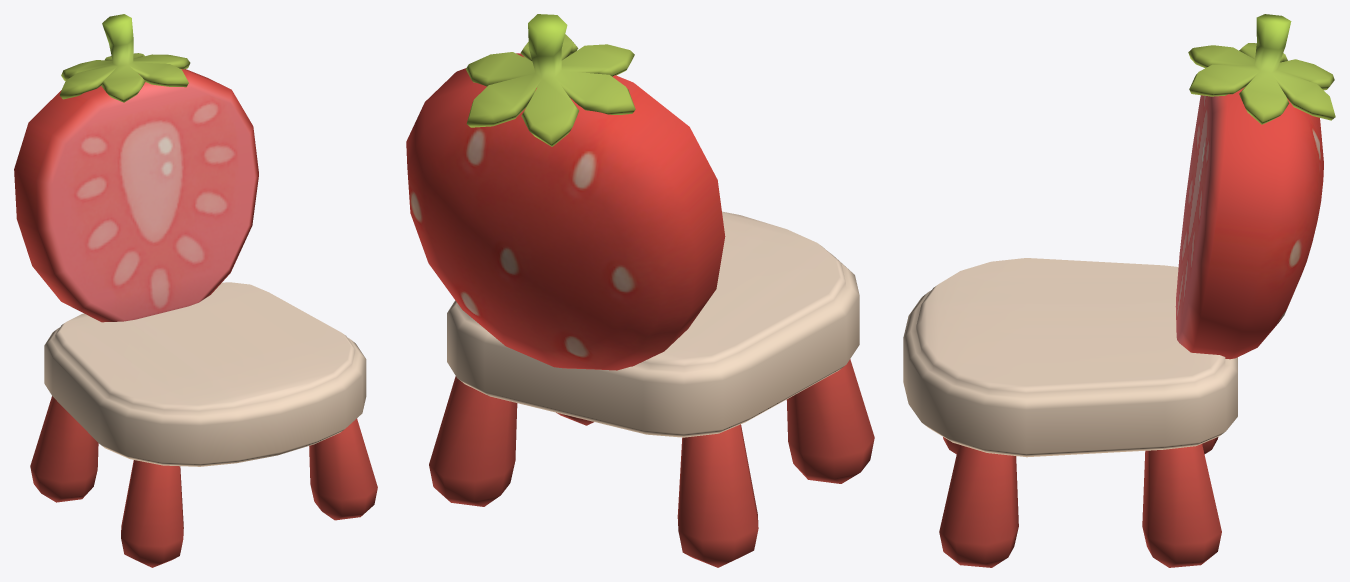
Rendered from Homestead_cm_2.fbx.
The picture shows the model from 3 angles, left to right: view 1: azimuth 30°, elevation 25°; view 2: azimuth 150°, elevation 25°; view 3: azimuth 270°, elevation 25°; orthographic projection. The views are drawn at different scales.
Parts seen in each view (by area): view 1: Homestead_cm_2; view 2: Homestead_cm_2; view 3: Homestead_cm_2.
Boxes of the visible parts, <box> form: Homestead_cm_2: <box>14,14,377,567</box>; Homestead_cm_2: <box>406,14,874,567</box>; Homestead_cm_2: <box>903,14,1335,567</box>.
Size of the model in its own units: 64.98 by 103 by 82.64.
